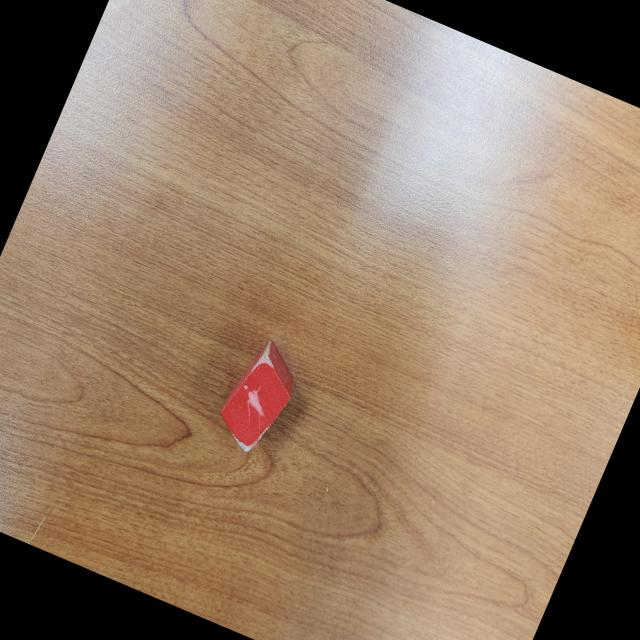broken: (208, 332, 308, 466)
